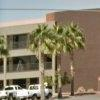Tree: (30, 15, 82, 59)
